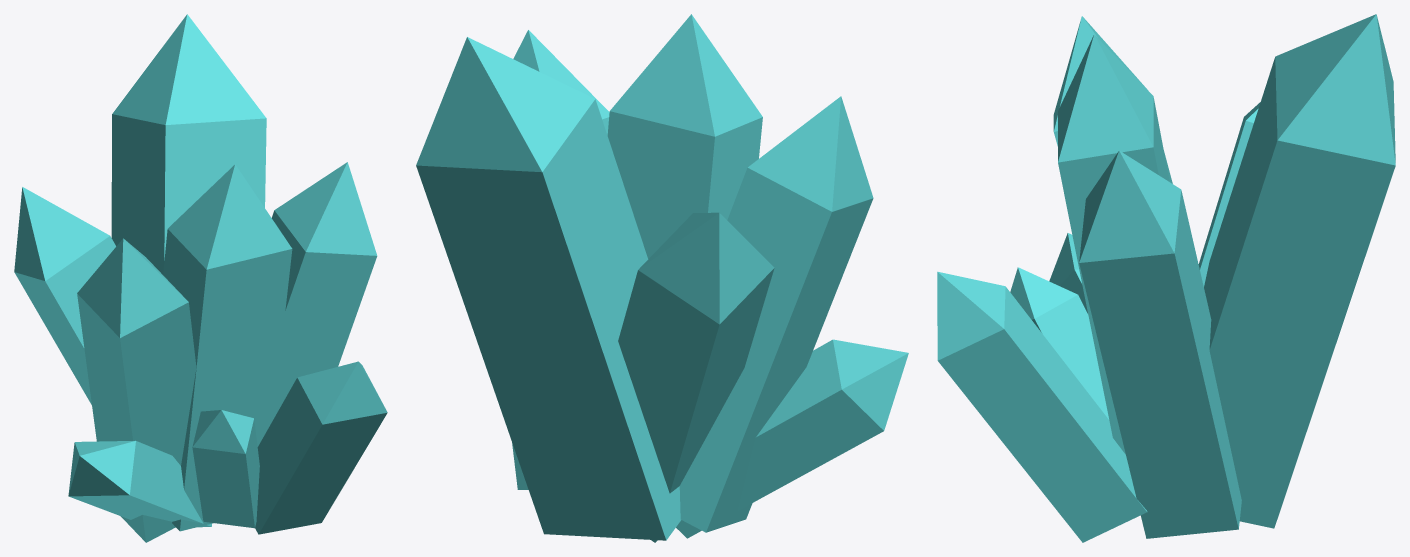
Rendered from Cristaux_Asset_1.FBX.
The picture shows the model from 3 angles, left to right: view 1: azimuth 30°, elevation 25°; view 2: azimuth 150°, elevation 25°; view 3: azimuth 270°, elevation 25°; orthographic projection. The views are drawn at different scales.
Visible parts, largest first — view 1: Box312; view 2: Box312; view 3: Box312.
Part boxes in pixels (box(x1,y1,x2,y2)): Box312: box(14, 14, 387, 542); Box312: box(416, 14, 908, 542); Box312: box(937, 14, 1395, 542).
Bounding box in the file's own units: 0.903 × 1.21 × 0.9451.
